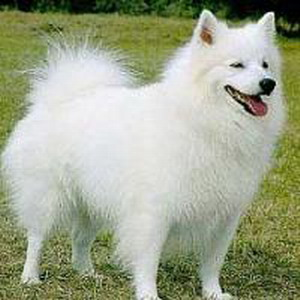dog: (170, 4, 294, 135)
